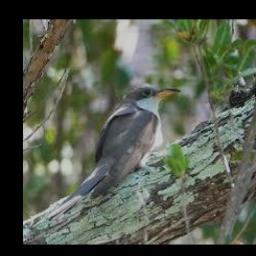Cuckoo: (57, 84, 180, 208)
